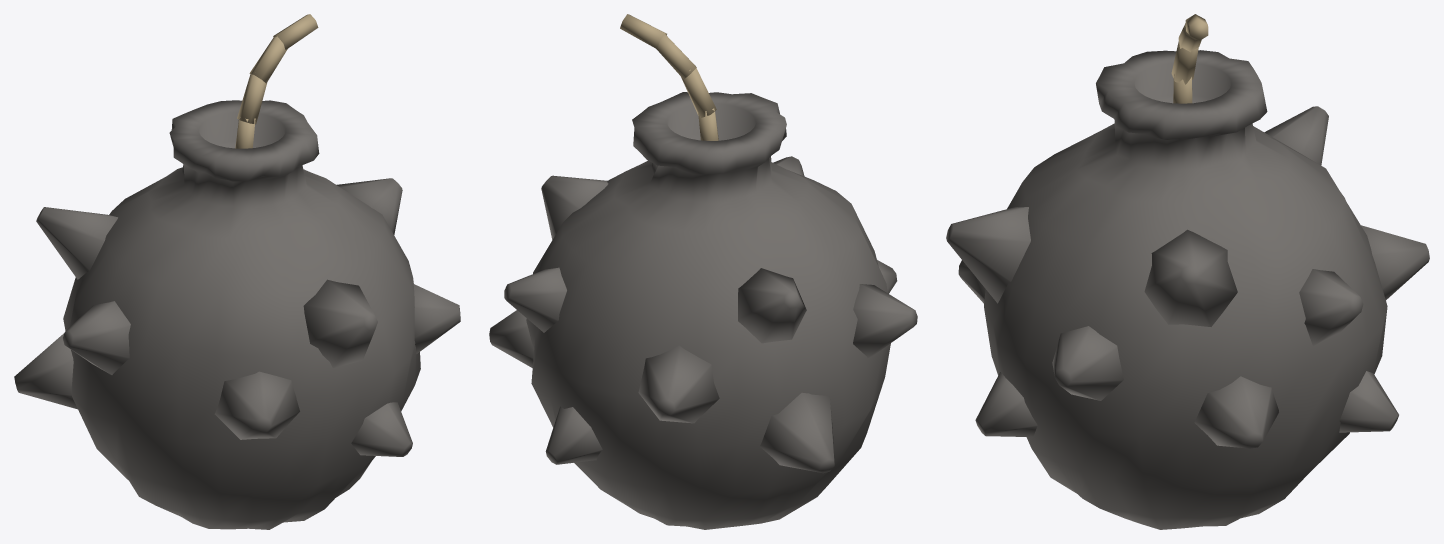
Rendered from Grenade.fbx.
3 views of the same model, side by side, from view 1: azimuth 30°, elevation 25°; view 2: azimuth 150°, elevation 25°; view 3: azimuth 270°, elevation 25° (orthographic). The views are drawn at different scales.
Parts seen in each view (by area): view 1: grenade_body, grenade_fuse; view 2: grenade_body, grenade_fuse; view 3: grenade_body, grenade_fuse.
Part boxes in pixels (x1,y1,x2,y2): grenade_body: [14, 100, 460, 529]; grenade_fuse: [235, 14, 318, 148]; grenade_body: [489, 92, 917, 529]; grenade_fuse: [620, 14, 718, 140]; grenade_body: [946, 50, 1429, 529]; grenade_fuse: [1171, 14, 1208, 103].
Size of the model in its own units: 0.1488 by 0.1734 by 0.1494.
